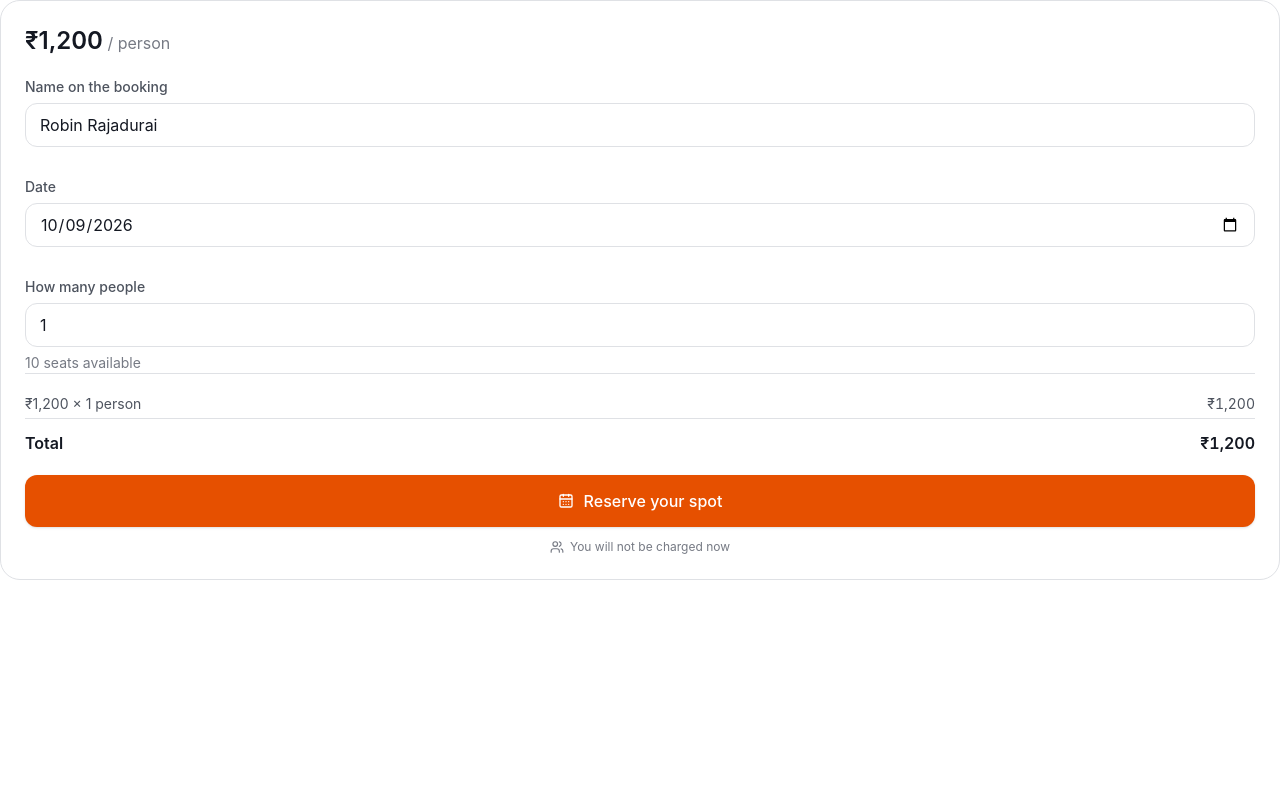
Scenario: when signed in › rejects a past date without asking the server
Type "2020-01-01" into the date field labelled "Date" at coordinates (640, 225), box [25,203,1255,247]
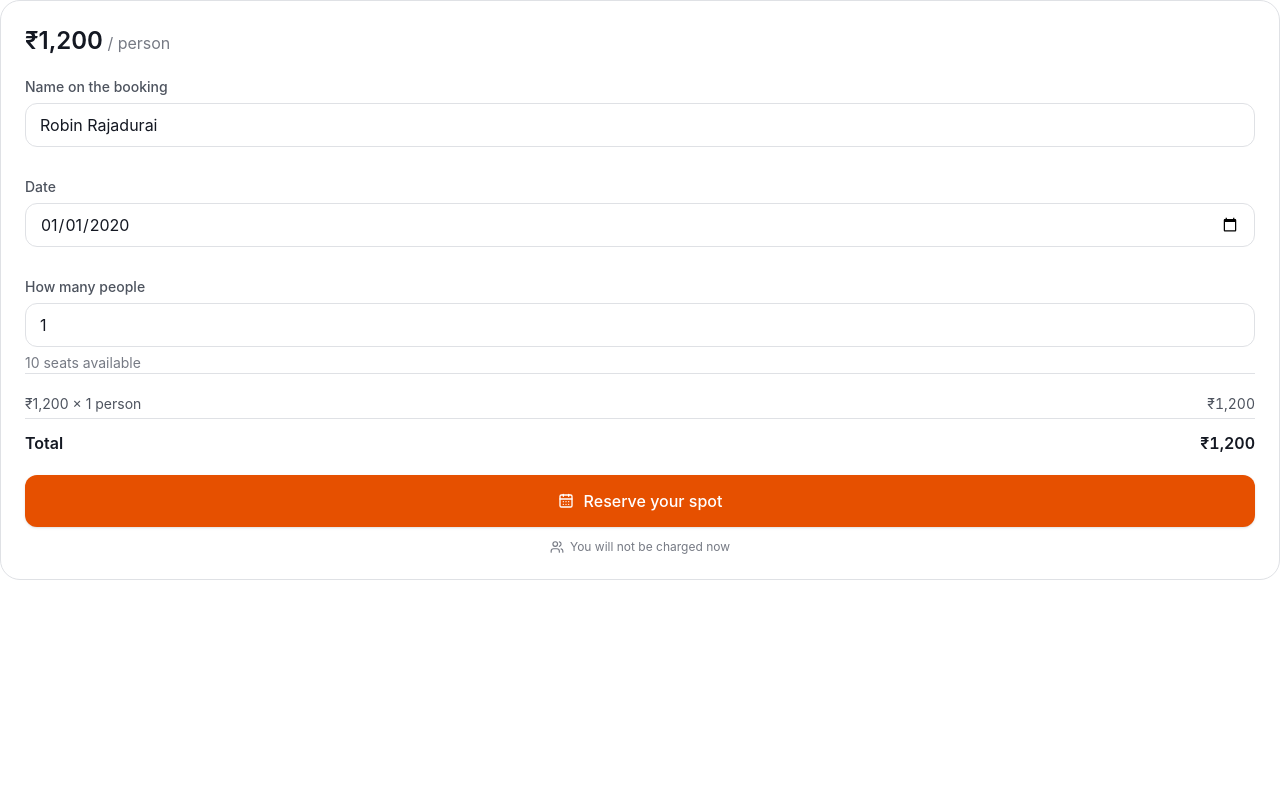
Click the button "Reserve your spot" at coordinates (640, 501), box [25,475,1255,527]
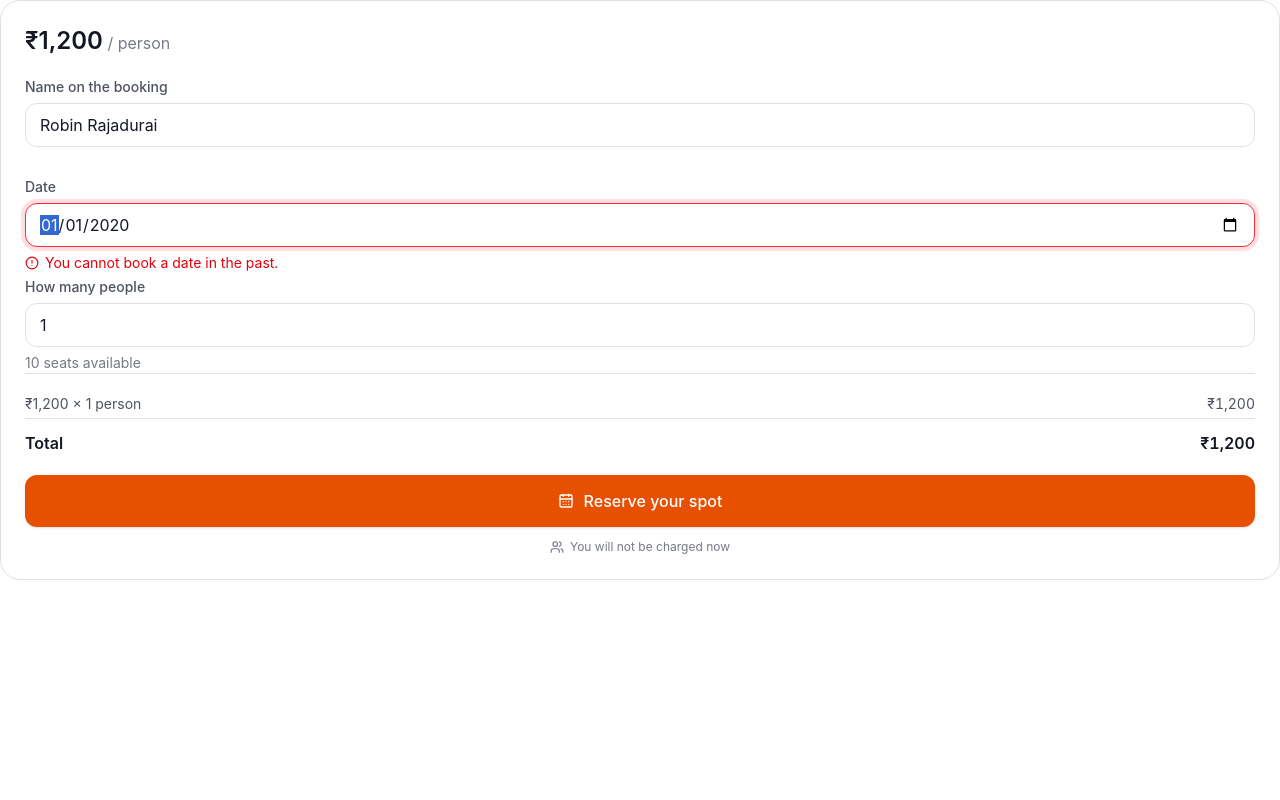
Expected: the text "You cannot book a date in the past." is shown, [25,254,278,271]
